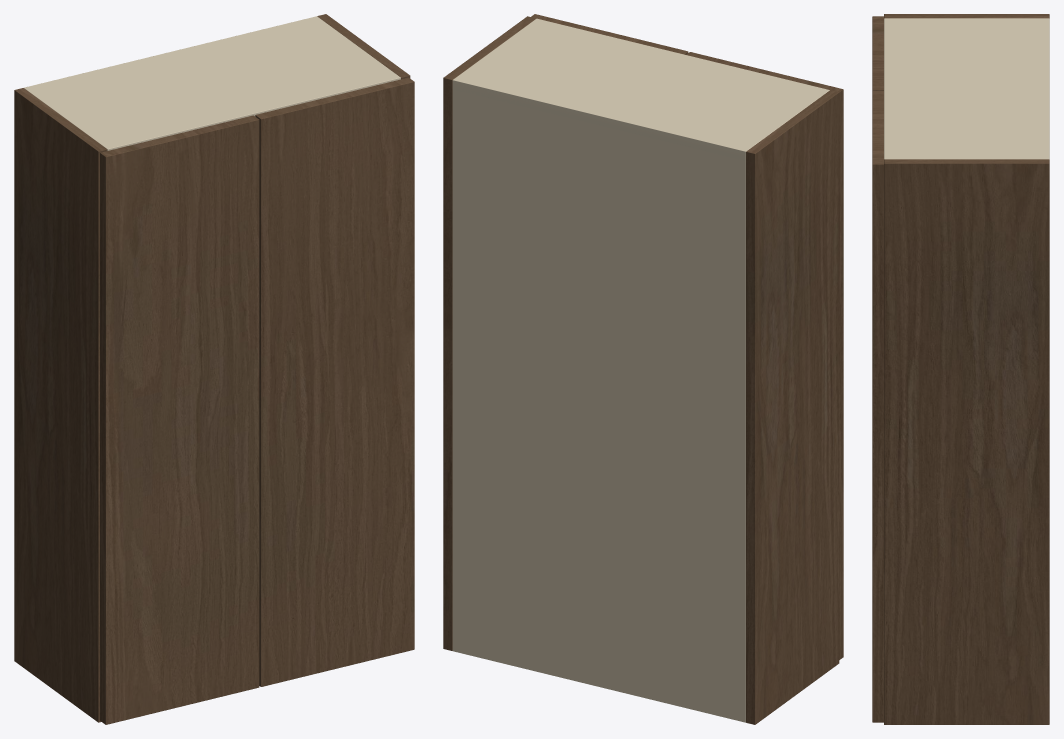
Rendered from oppein-ply-mso-w2442.glb.
3 renders of one model, left to right at view 1: azimuth 30°, elevation 25°; view 2: azimuth 150°, elevation 25°; view 3: azimuth 270°, elevation 25°, orthographic.
Parts seen in each view (by area): view 1: Door, Door.001, Cabinet side, Cabinet top, Cabinet side.001; view 2: Cabinet back, Cabinet side, Cabinet top, Cabinet side.001, Door, Door.001; view 3: Cabinet side.001, Cabinet top, Door.001, Door, Cabinet side.
Boxes of the visible parts, x1,y1,x2,y2 form: Door: (100,115,259,724); Door.001: (255,77,414,686); Cabinet side: (14,88,107,722); Cabinet top: (24,16,400,150); Cabinet side.001: (317,14,410,79); Cabinet back: (452,81,745,722); Cabinet side: (746,90,839,724); Cabinet top: (452,18,829,160); Cabinet side.001: (443,16,536,650); Door: (686,52,843,659); Door.001: (531,14,688,54); Cabinet side.001: (884,159,1049,724); Cabinet top: (884,18,1049,159); Door.001: (872,90,883,722); Door: (872,16,883,90); Cabinet side: (884,14,1049,18).
Bounding box in the file's own units: 0.6096 × 1.07 × 0.3048.
Materials: 2 (1 with a texture image).
